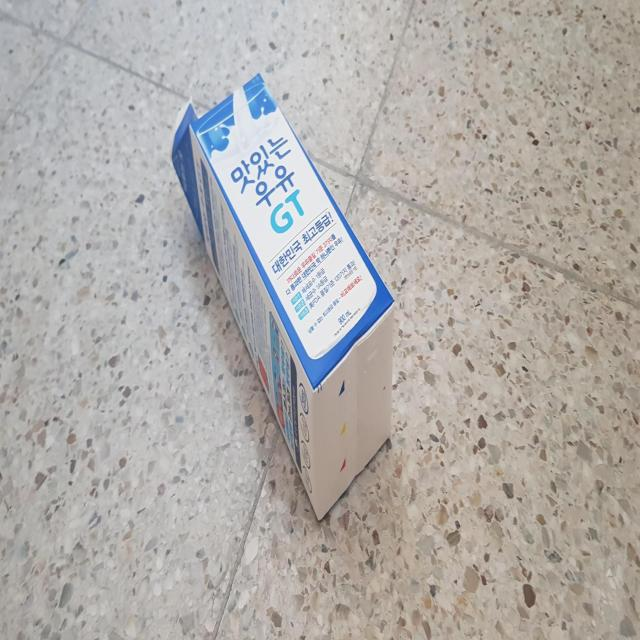paperpack: (171, 72, 394, 519)
